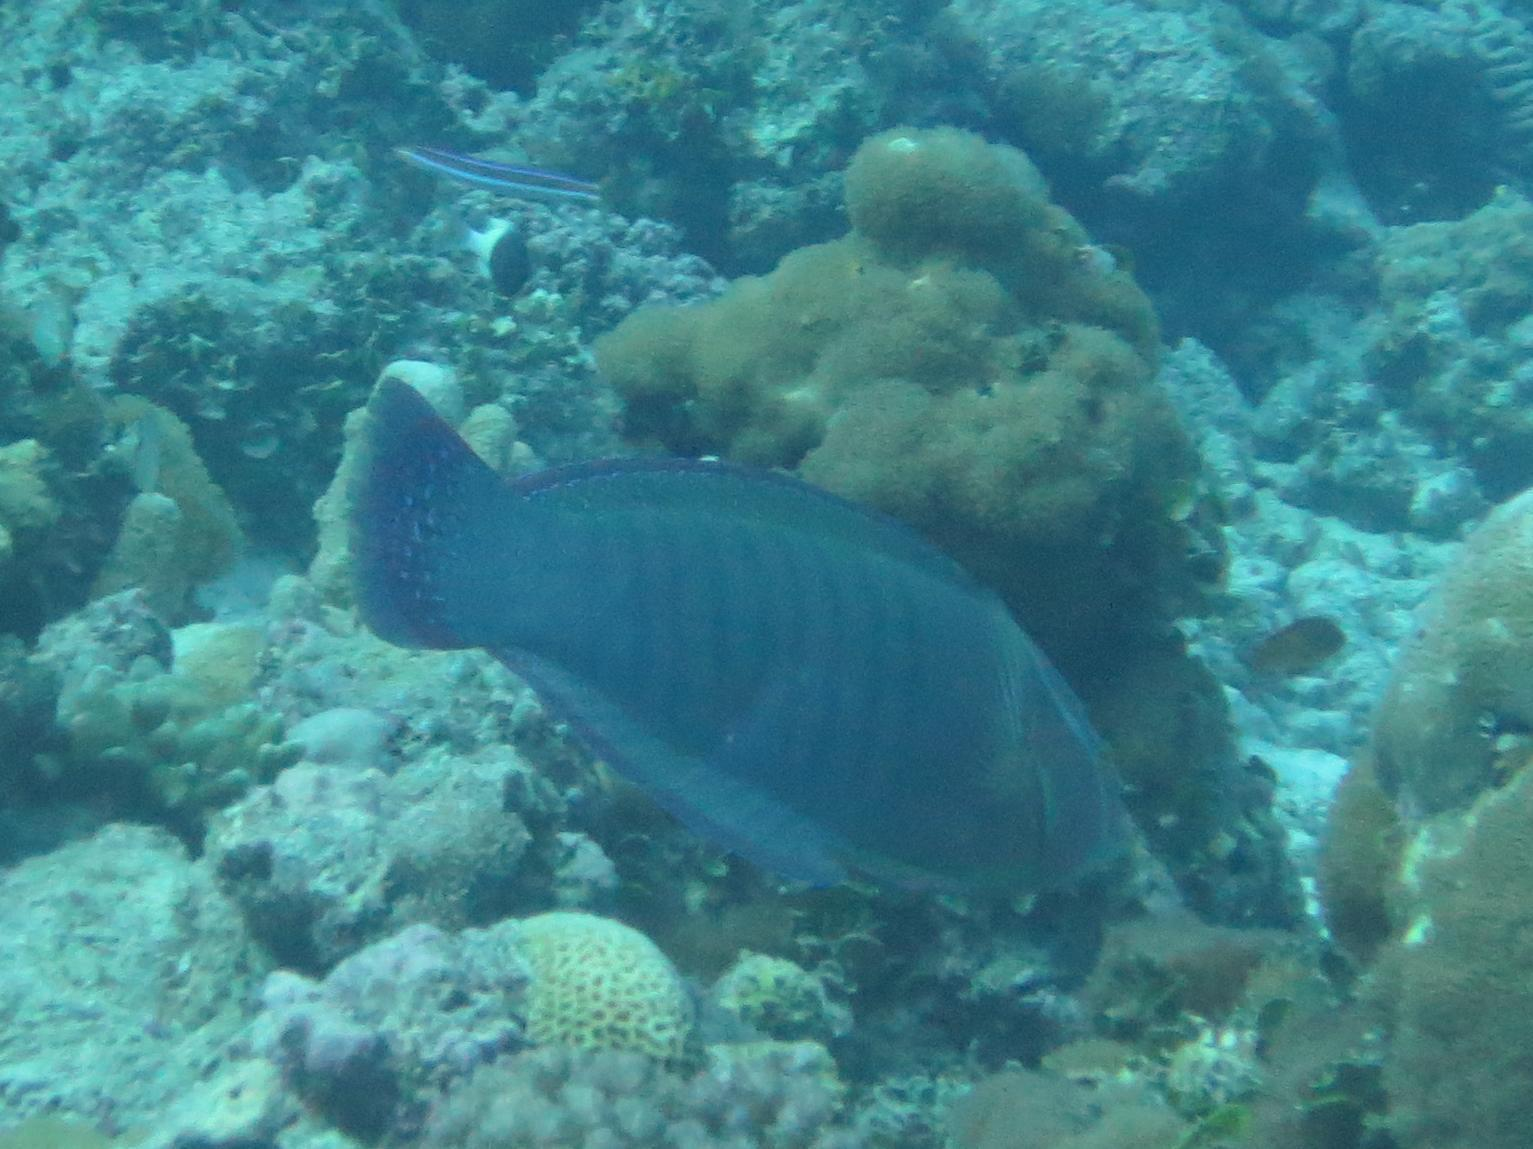Fish: (237, 336, 1220, 970)
